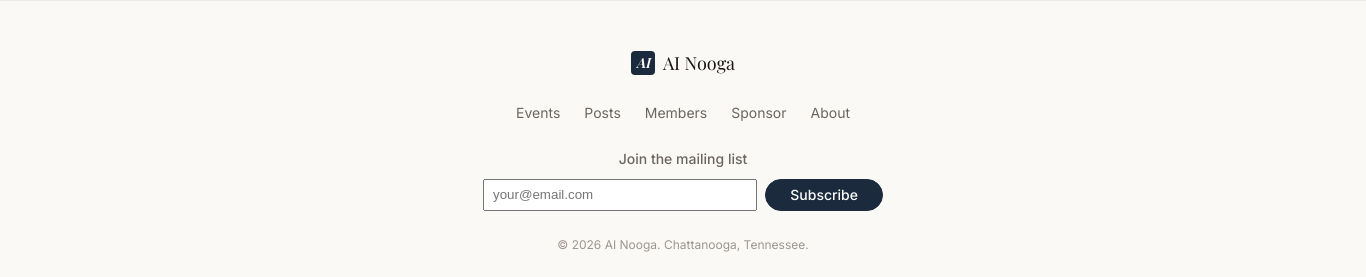
Test: SiteFooter newsletter state machine › IDLE → REVEALING › transitions when user clicks Subscribe with non-empty email
Type "user@example.com" into the field with id "subscribe-email" at (620, 195), box [483, 179, 757, 211]
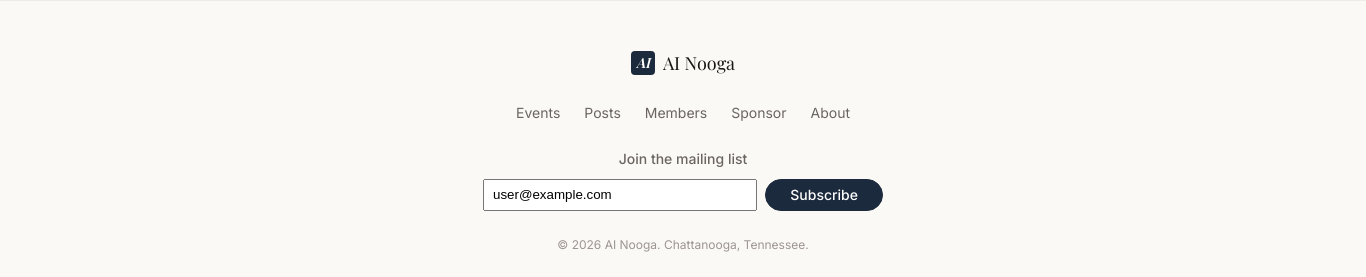
Submit the form with class "site-footer__subscribe", box [483, 148, 883, 211]
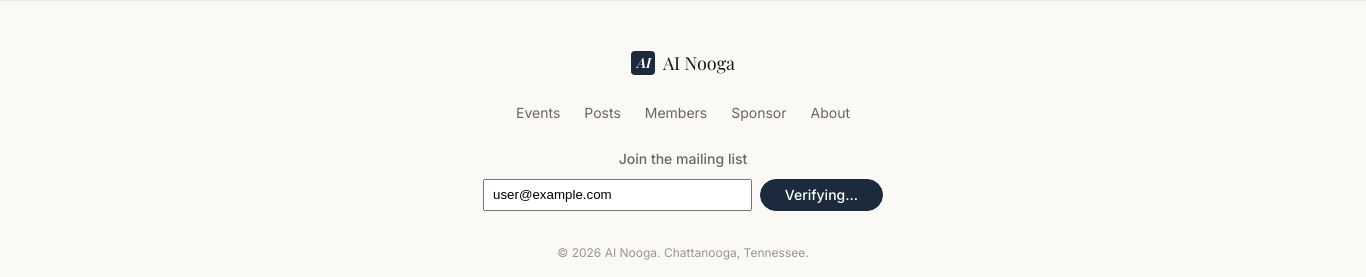
Expected: the submit button reads "Verifying…", [760, 179, 883, 211]
Expected: the submit button is disabled, [760, 179, 883, 211]
